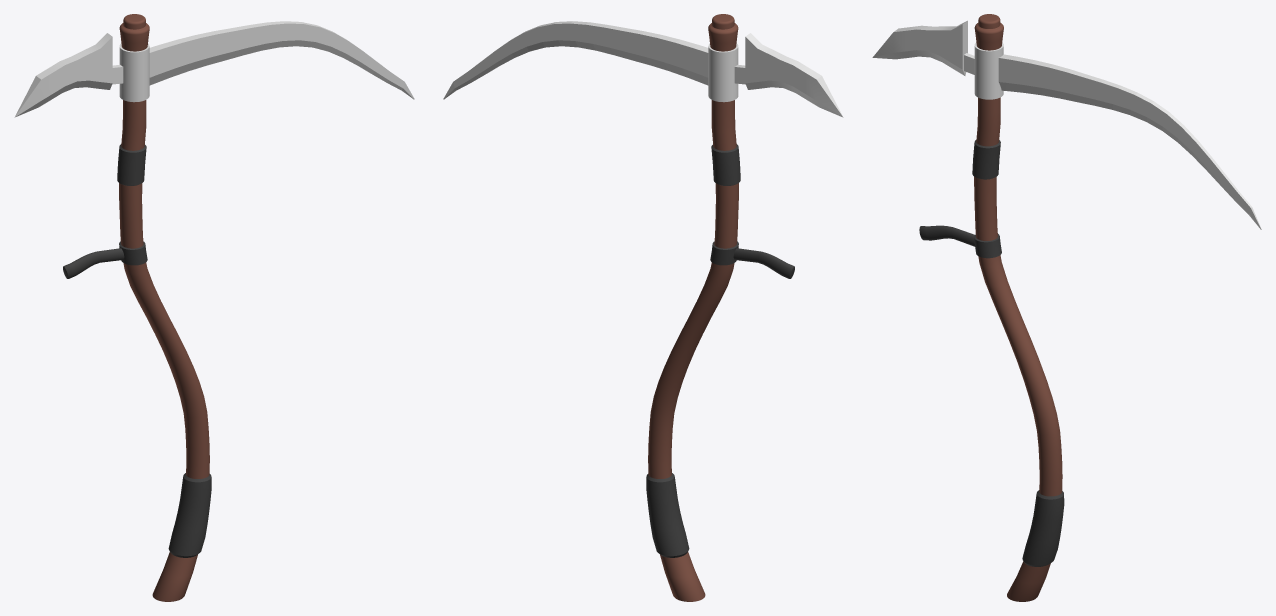
Rendered from Scythe.fbx.
3 renders of one model, left to right at view 1: azimuth 30°, elevation 25°; view 2: azimuth 150°, elevation 25°; view 3: azimuth 330°, elevation 25°, orthographic. The views are drawn at different scales.
Parts seen in each view (by area): view 1: Cylinder.001; view 2: Cylinder.001; view 3: Cylinder.001.
Boxes of the visible parts, left/top/right/bottom form: Cylinder.001: left=14, top=14, right=414, bottom=601; Cylinder.001: left=443, top=14, right=843, bottom=601; Cylinder.001: left=872, top=14, right=1261, bottom=601.
Size of the model in its own units: 200 by 280 by 15.
